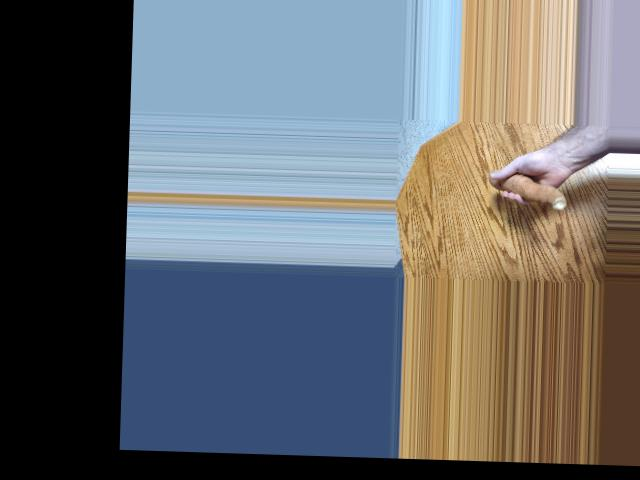sweet_potato: (484, 172, 572, 209)
